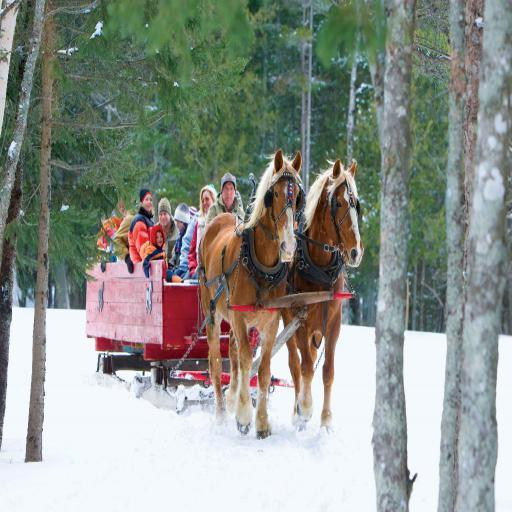horse: (196, 148, 304, 443), (280, 157, 366, 436)
